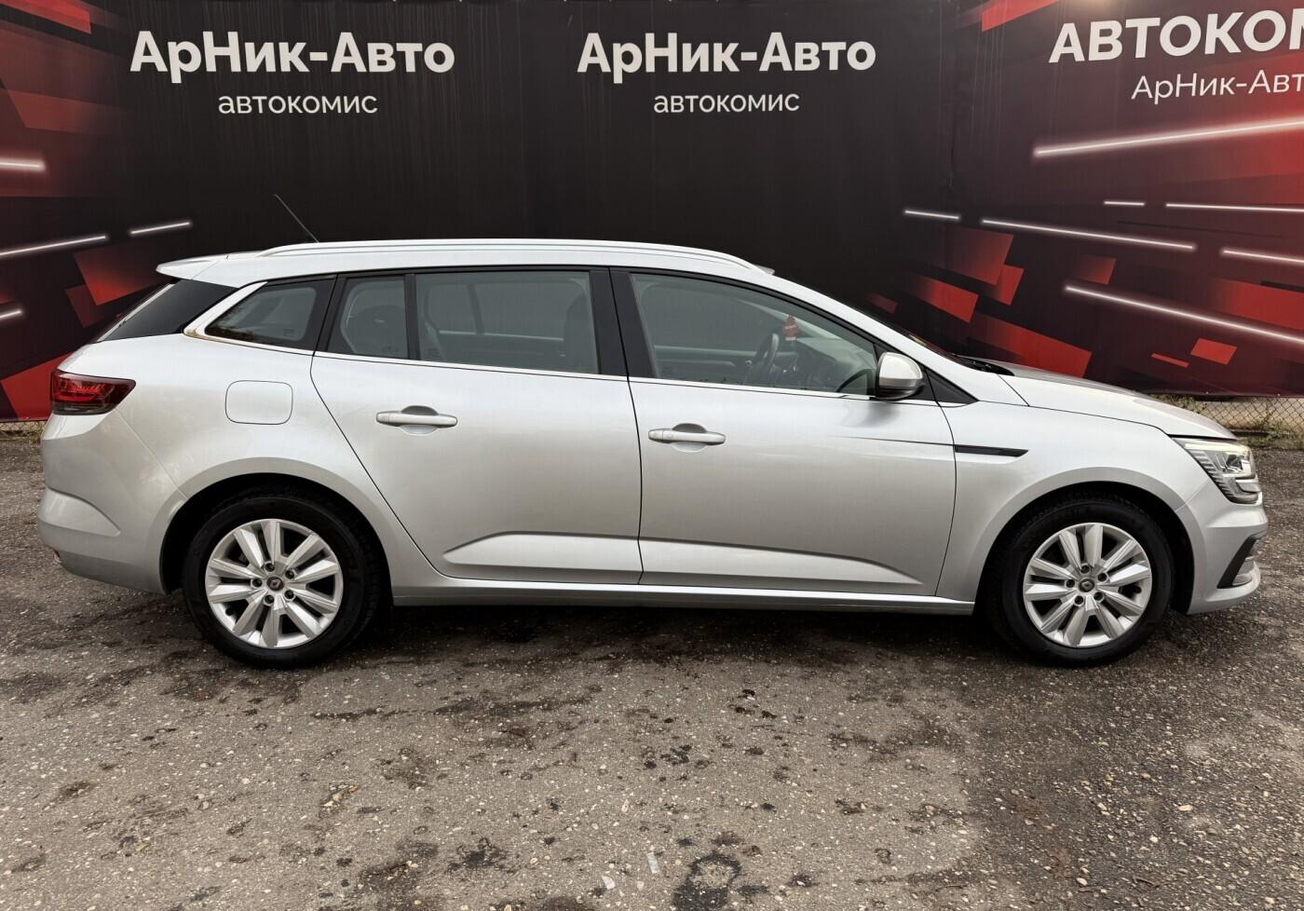Megane_2020: (31, 227, 1267, 671)
